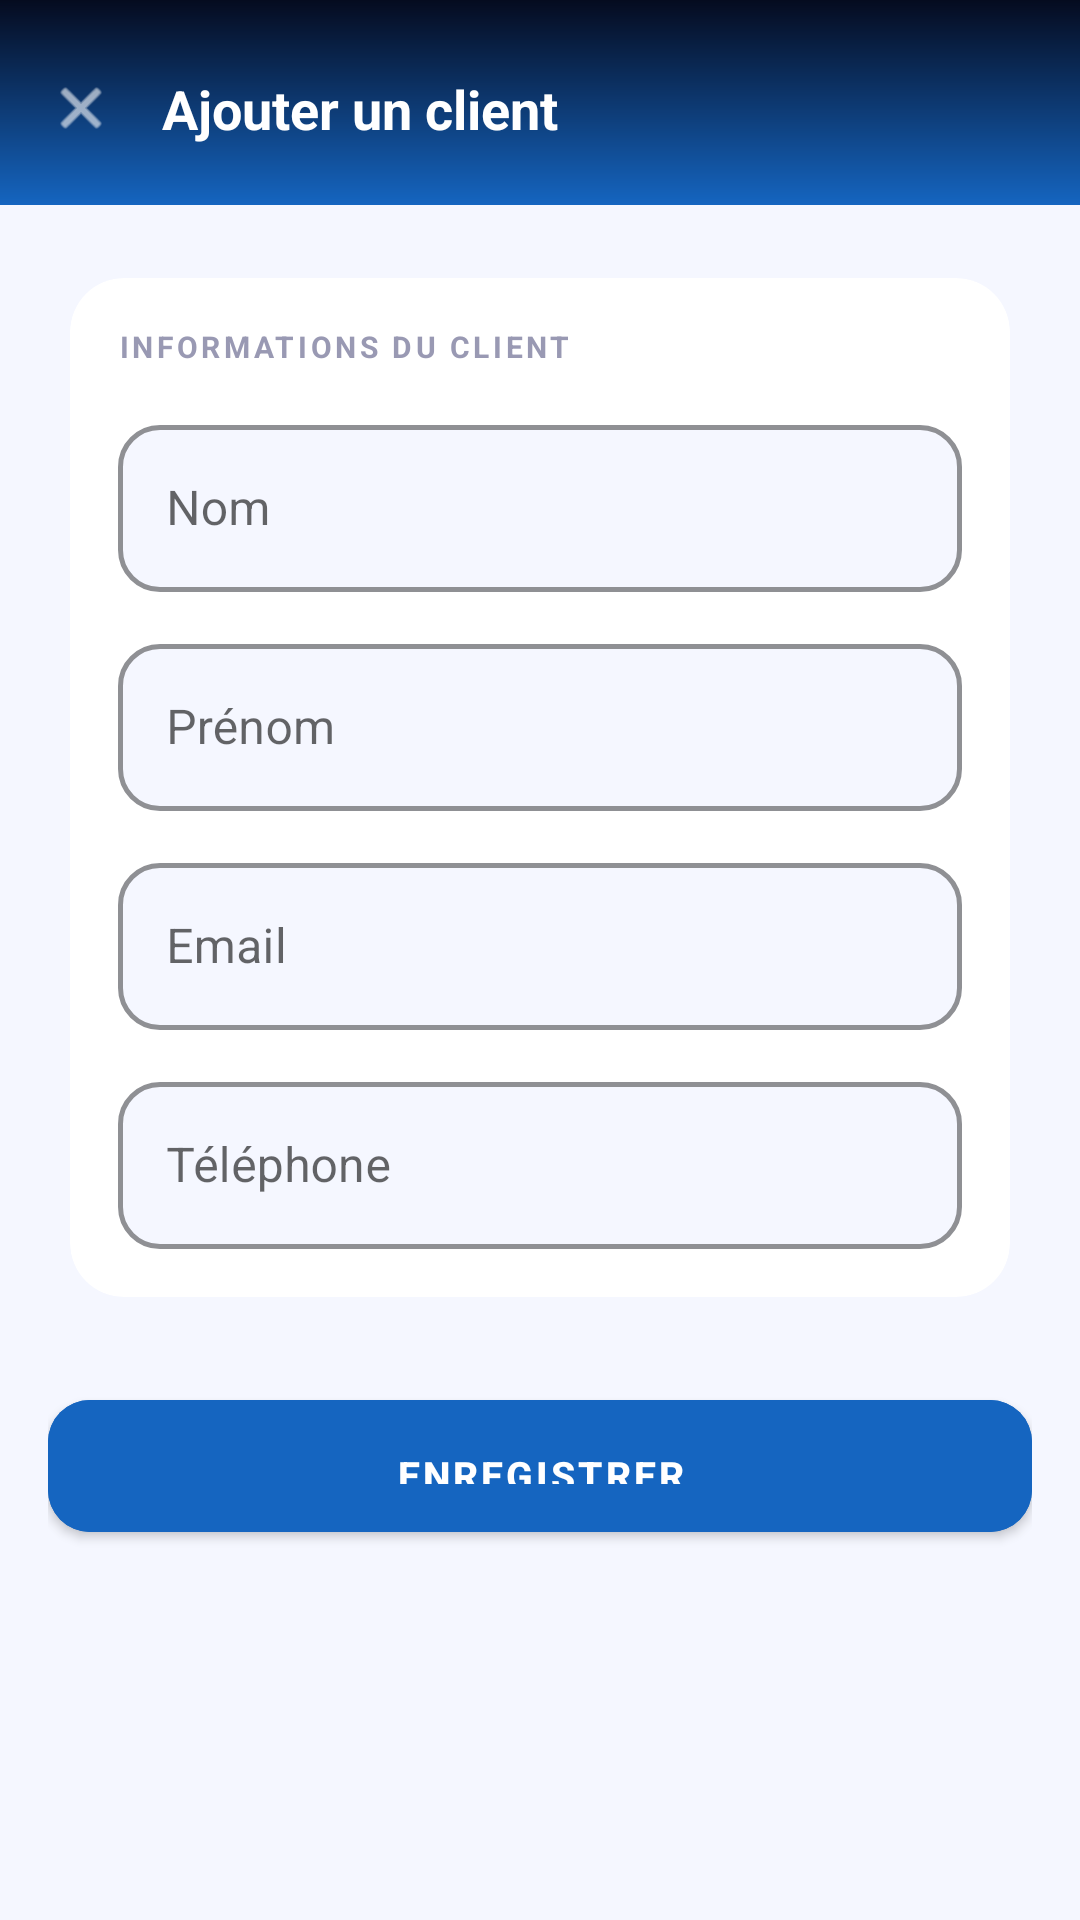

Screen size 1080x1920. Icon name, then its center in pixels as (x,y):
close clear cancel: (81,108)
